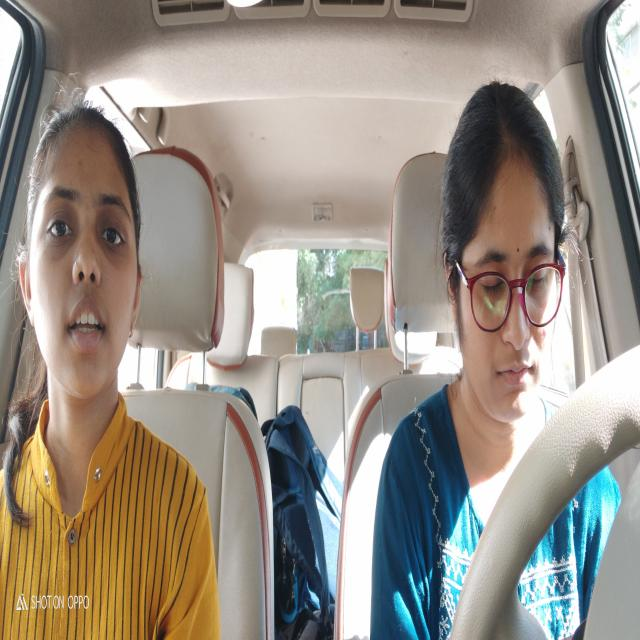drowsy: (438, 69, 571, 428)
person: (13, 87, 147, 420)
